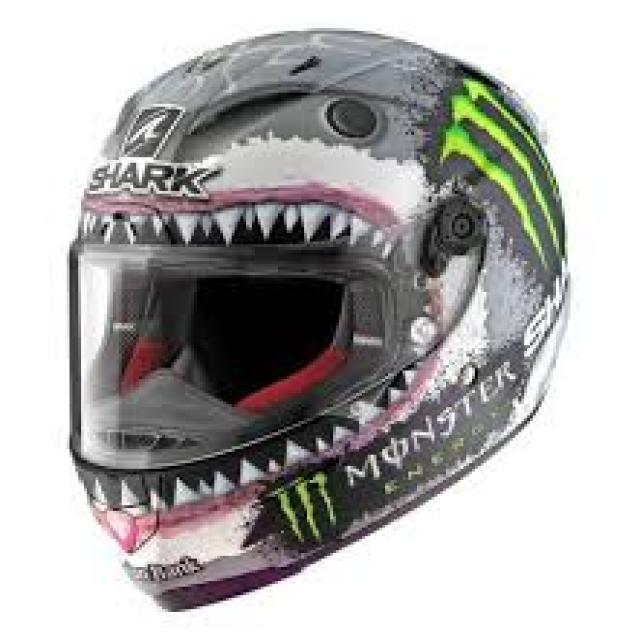Helmet: (71, 31, 569, 609)
